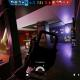Character: (30, 36, 43, 48)
Friend_label: (30, 32, 38, 36)
Head: (34, 36, 36, 40)
